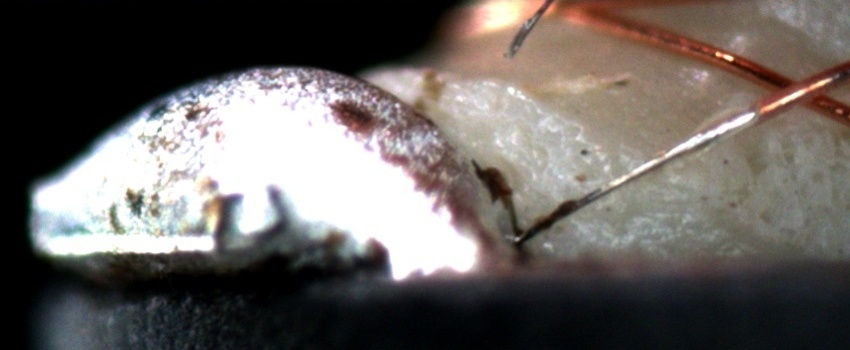CL: (752, 59, 843, 118)
TS: (514, 107, 762, 246)
TTCW: (514, 84, 811, 245)
